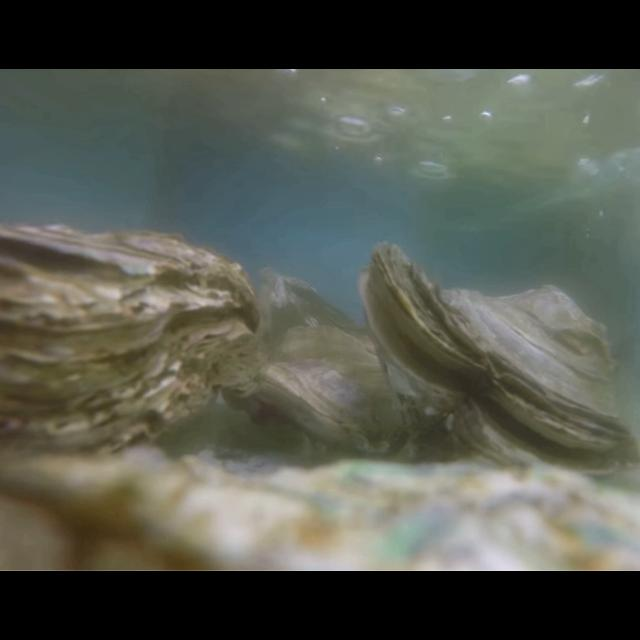Oyster-Closed: (0, 222, 262, 488), (258, 325, 420, 465)
Oyster-Indeterminate: (0, 448, 640, 572), (266, 275, 370, 361)
Oyster-Open: (360, 243, 640, 492)
